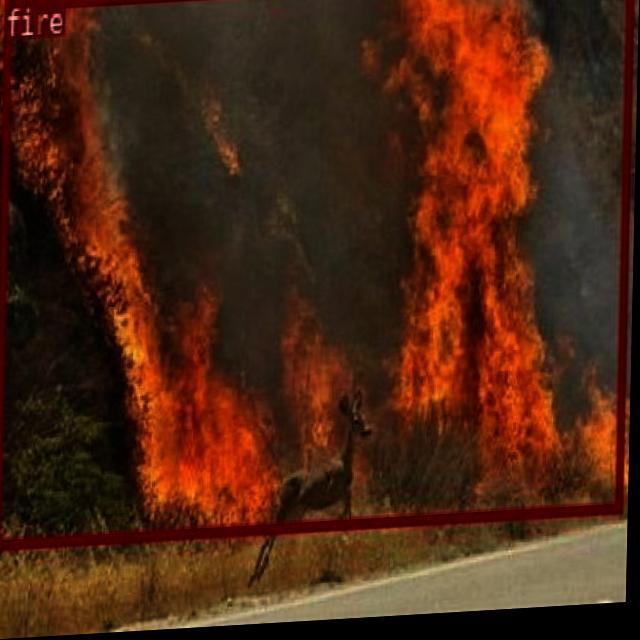Fire: (11, 0, 343, 517), (361, 0, 622, 506)
Smoke: (0, 0, 638, 535)
